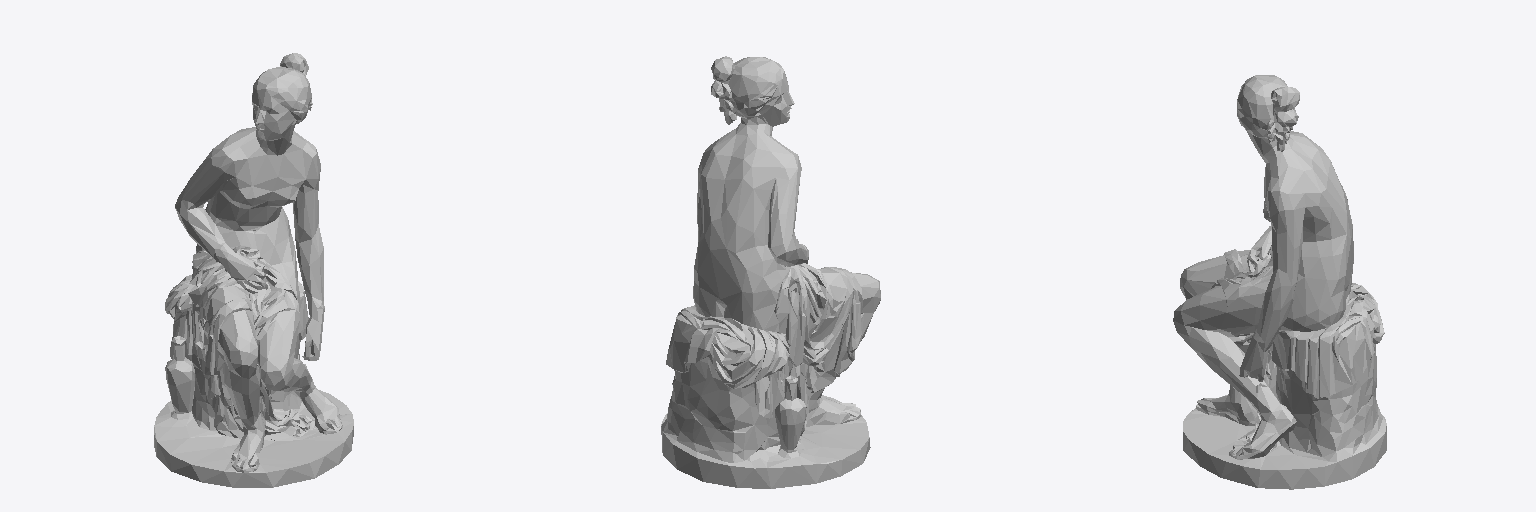
The model's file is statue5k.obj.
3 views of the same model, side by side, from view 1: azimuth 30°, elevation 25°; view 2: azimuth 150°, elevation 25°; view 3: azimuth 270°, elevation 25° (orthographic).
Visible parts, largest first — view 1: nymph1; view 2: nymph1; view 3: nymph1.
Boxes of the visible parts, <box> form: nymph1: <box>154,53,353,487</box>; nymph1: <box>661,56,880,488</box>; nymph1: <box>1173,75,1386,489</box>.
Bounding box in the file's own units: 1.74 × 3.5 × 1.79.